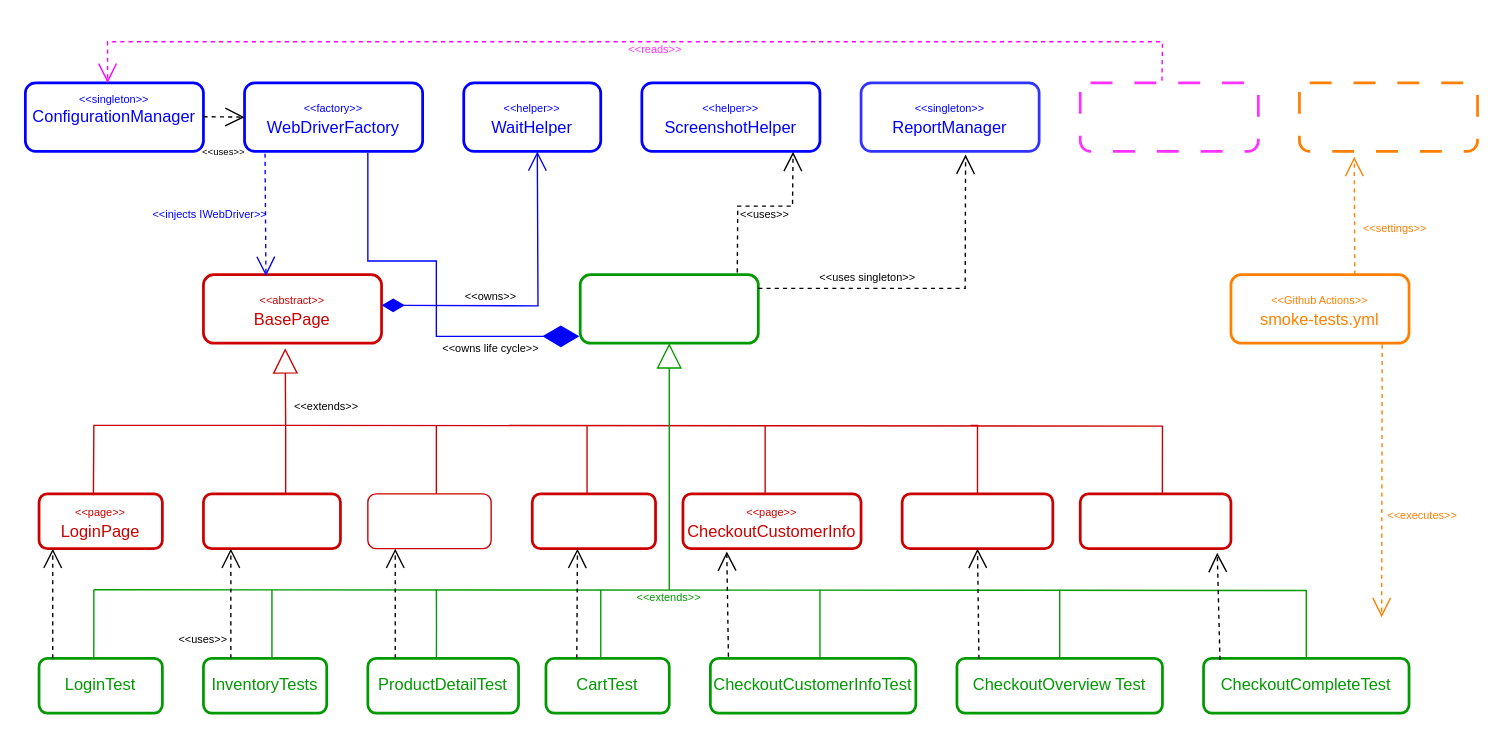
The diagram is 1502 pixels wide and 738 high, and some of its shapes have lost their labels. Each missing label, with the box of its shape:
<<abstract>> BaseTest: (578, 273, 759, 344)
<<json>> appsettings.json: (1078, 81, 1259, 152)
<<page>> Cart: (530, 492, 656, 549)
<<page>> CheckoutComplete: (1078, 492, 1232, 549)
<<page>> CheckoutCverview: (900, 492, 1054, 549)
<<page>> ProductDetail: (366, 493, 491, 549)
<<page>> ProductInventory: (201, 492, 341, 549)
<<xml>> CI.runsettings: (1297, 81, 1478, 152)
